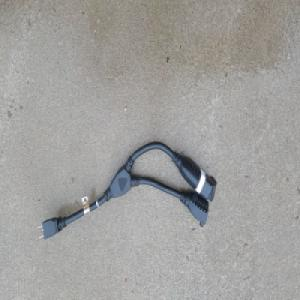Wire: (36, 139, 217, 241)
